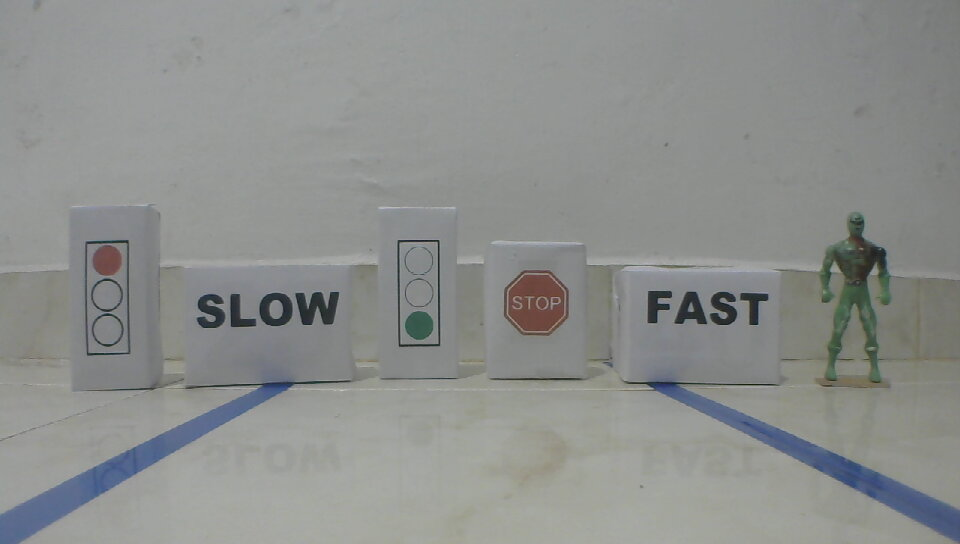Fast: (645, 288, 772, 326)
Green Traffic Light: (394, 238, 443, 350)
Person: (818, 211, 895, 388)
Red Traffic Light: (82, 238, 134, 357)
Slow: (193, 289, 342, 329)
Stop Sign: (501, 269, 573, 337)
